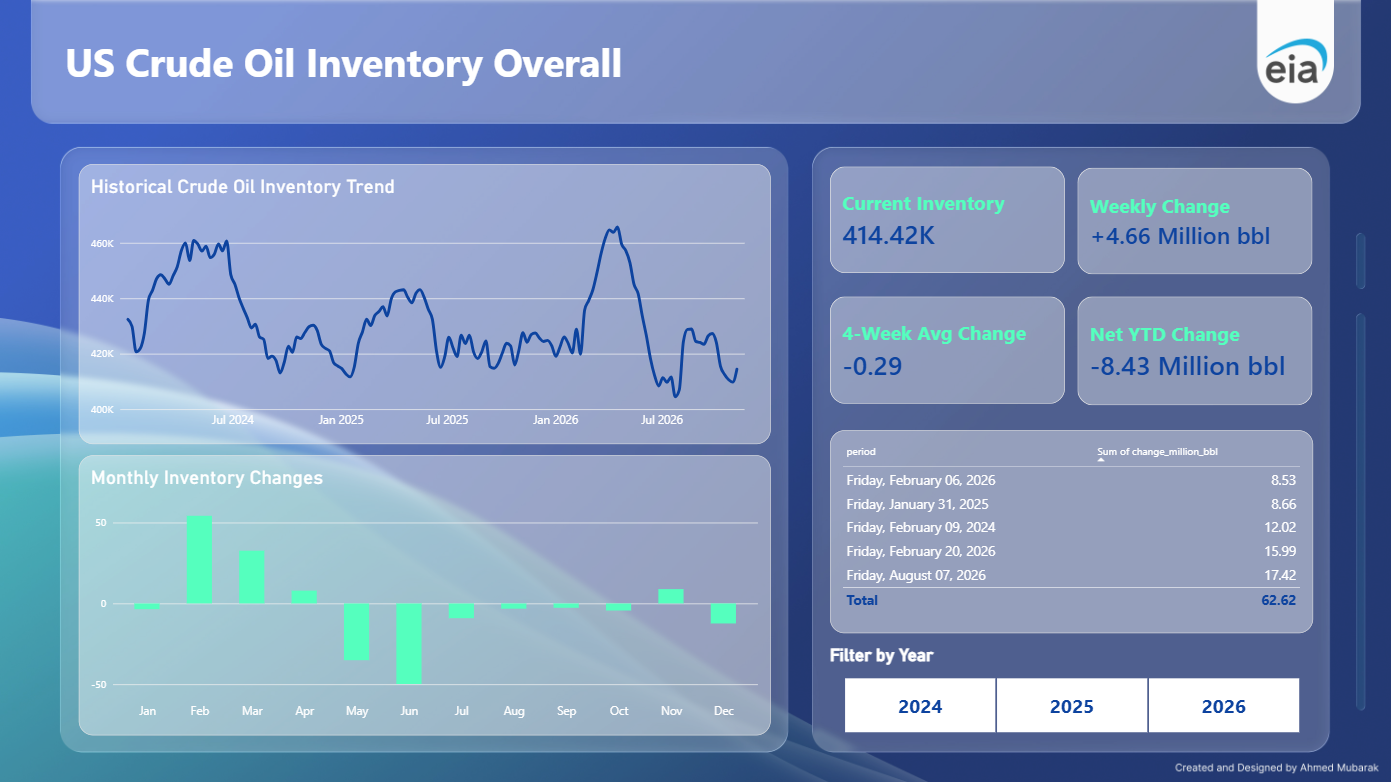

What the dashboard file says about the page in this screenshot:
{"tool":"powerbi","page":{"name":"Page 1","canvas":[1920,1080],"ordinal":0},"visuals":[{"type":"lineChart","title":"Historical Crude Oil Inventory Trend","fields":{"Category":["weekly_stocks.period"],"Y":["Avg(weekly_stocks.current_stock_k_bbl)"]},"box":[108,228,954,386],"z":0},{"type":"cardVisual","fields":{"Data":["Sum(weekly_stocks.current_stock_k_bbl)"]},"box":[1144,231.6,324.4,147.1],"z":1000},{"type":"cardVisual","fields":{"Data":["weekly_stocks.Weekly_Change_Text"]},"box":[1486,233.6,324.4,147.1],"z":2000},{"type":"clusteredColumnChart","title":"Monthly Inventory Changes","fields":{"Category":["weekly_stocks.Month_Short"],"Y":["Sum(weekly_stocks.change_million_bbl)"]},"box":[108,630,954,386],"z":3000},{"type":"textbox","box":[90,50,902,76],"z":4000},{"type":"slicer","title":"Filter by Year","fields":{"Values":["weekly_stocks.period.Variation.Date Hierarchy.Year"]},"box":[1144,891.6,666,122],"z":5000},{"type":"cardVisual","fields":{"Data":["weekly_stocks.4_Week_MA"]},"box":[1144,409.6,324,148],"z":6000},{"type":"tableEx","fields":{"Values":["weekly_stocks.period","Sum(weekly_stocks.change_million_bbl)"]},"box":[1144,595.6,666,280],"z":7000},{"type":"cardVisual","fields":{"Data":["weekly_stocks.Net_YTD_Change"]},"box":[1486,409.6,324,150],"z":8000}]}

Visuals, with their boxes in screenshot pixels (x1, y1, x2, y2), scaled from the page's 1920x1080 canvas onto the 1391x782 screenshot:
"Historical Crude Oil Inventory Trend" lineChart: [78, 165, 769, 445]
cardVisual - Sum(weekly_stocks.current_stock_k_bbl): [829, 168, 1064, 274]
cardVisual - weekly_stocks.Weekly_Change_Text: [1077, 169, 1312, 276]
"Monthly Inventory Changes" clusteredColumnChart: [78, 456, 769, 736]
textbox: [65, 36, 719, 91]
"Filter by Year" slicer: [829, 646, 1311, 734]
cardVisual - weekly_stocks.4_Week_MA: [829, 297, 1064, 404]
tableEx - weekly_stocks.period x Sum(weekly_stocks.change_million_bbl): [829, 431, 1311, 634]
cardVisual - weekly_stocks.Net_YTD_Change: [1077, 297, 1311, 405]
